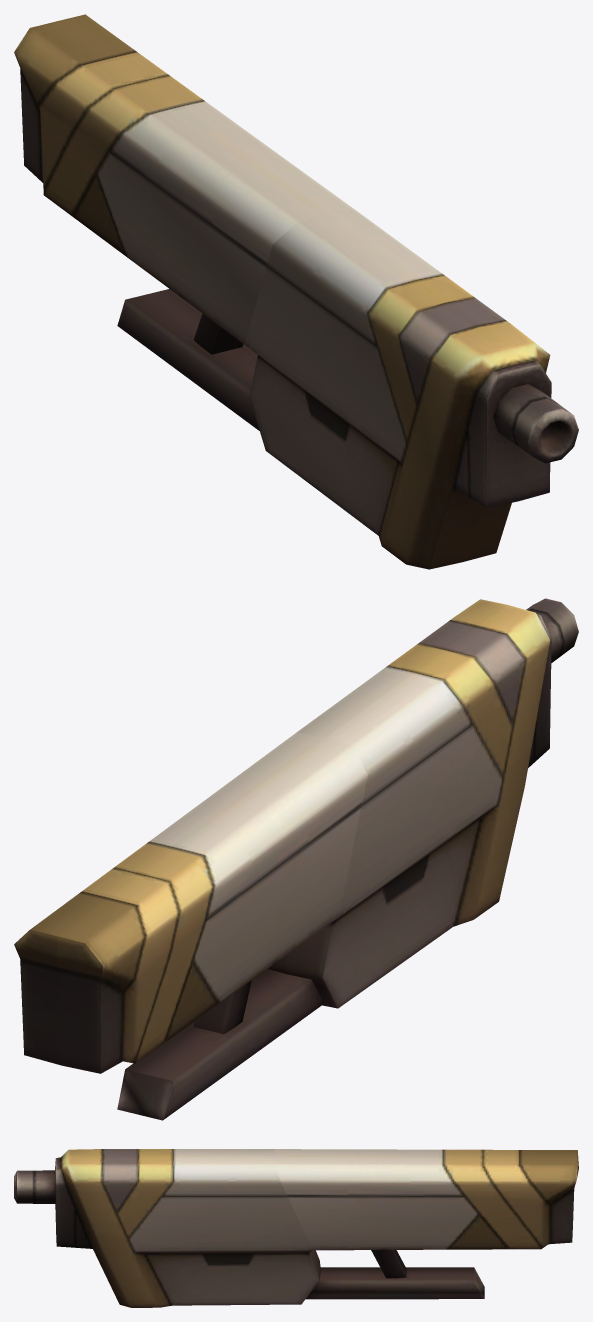
Rendered from CorrinoRifle_TRUE_FBX.fbx.
3 views of the same model, one above another, from view 1: azimuth 30°, elevation 25°; view 2: azimuth 150°, elevation 25°; view 3: azimuth 270°, elevation 25° (orthographic). The views are drawn at different scales.
Parts seen in each view (by area): view 1: CorrinoRifle_01; view 2: CorrinoRifle_01; view 3: CorrinoRifle_01.
Boxes of the visible parts, x1=… form: CorrinoRifle_01: x1=14, y1=14, x2=578, y2=569; CorrinoRifle_01: x1=14, y1=598, x2=578, y2=1120; CorrinoRifle_01: x1=14, y1=1149, x2=578, y2=1307.
Bounding box in the file's own units: 0.1365 × 1.21 × 0.3324.
